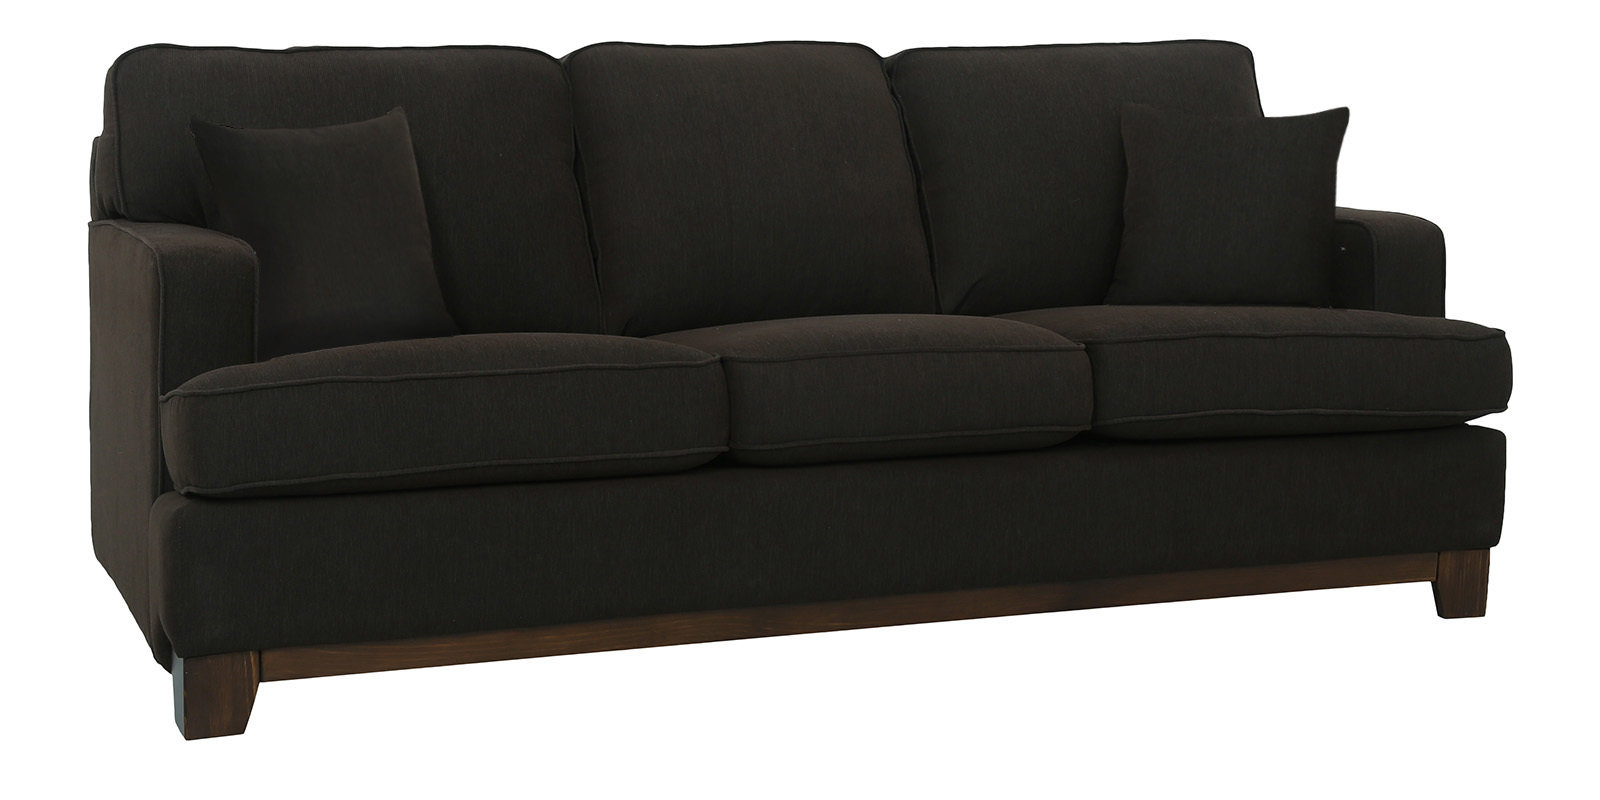Parana Three Seater Sofa in Chestnut Brown Color by CasaCraft: (85, 36, 1511, 741)
